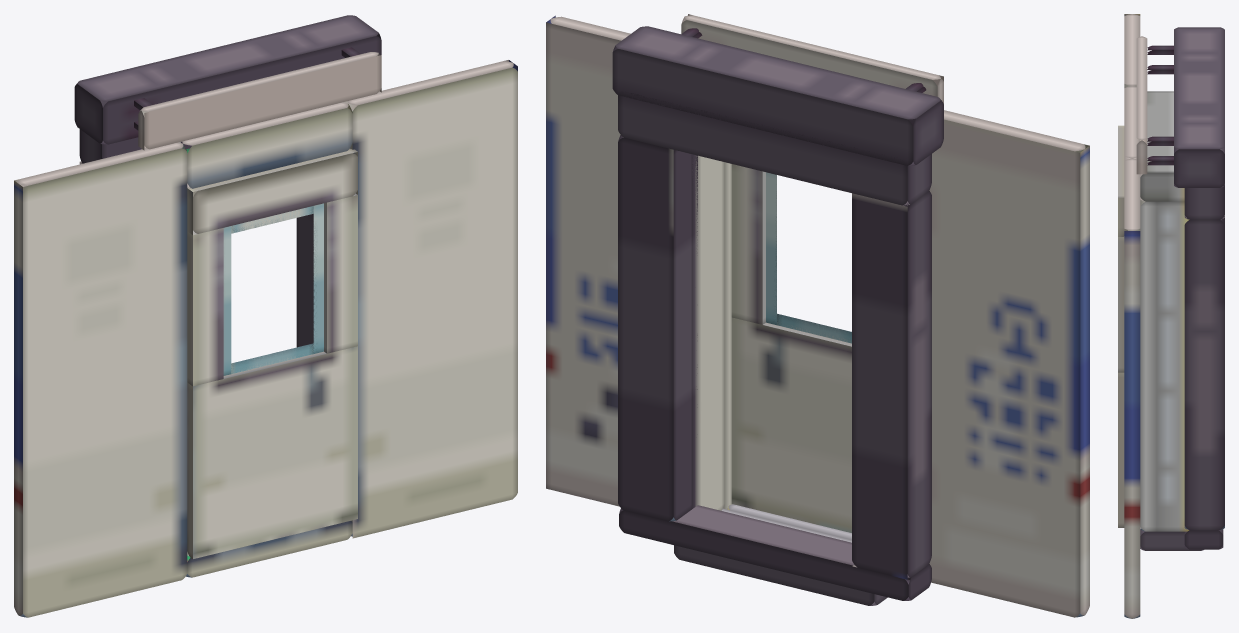
File: m1_door_end_face_closed.obj
3 views of the same model, side by side, from view 1: azimuth 30°, elevation 25°; view 2: azimuth 150°, elevation 25°; view 3: azimuth 270°, elevation 25° (orthographic). The views are drawn at different scales.
Parts seen in each view (by area): view 1: cube_selection_selection, cube; view 2: cube_selection_selection, cube; view 3: cube_selection_selection, cube.
Boxes of the visible parts, bbox=[...] form: cube_selection_selection: bbox=[14, 15, 517, 617]; cube: bbox=[187, 148, 357, 558]; cube_selection_selection: bbox=[546, 14, 1089, 617]; cube: bbox=[731, 164, 851, 532]; cube_selection_selection: bbox=[1124, 14, 1224, 618]; cube: bbox=[1118, 125, 1127, 527].
Size of the model in its own units: 3 by 2.72 by 0.6233.
